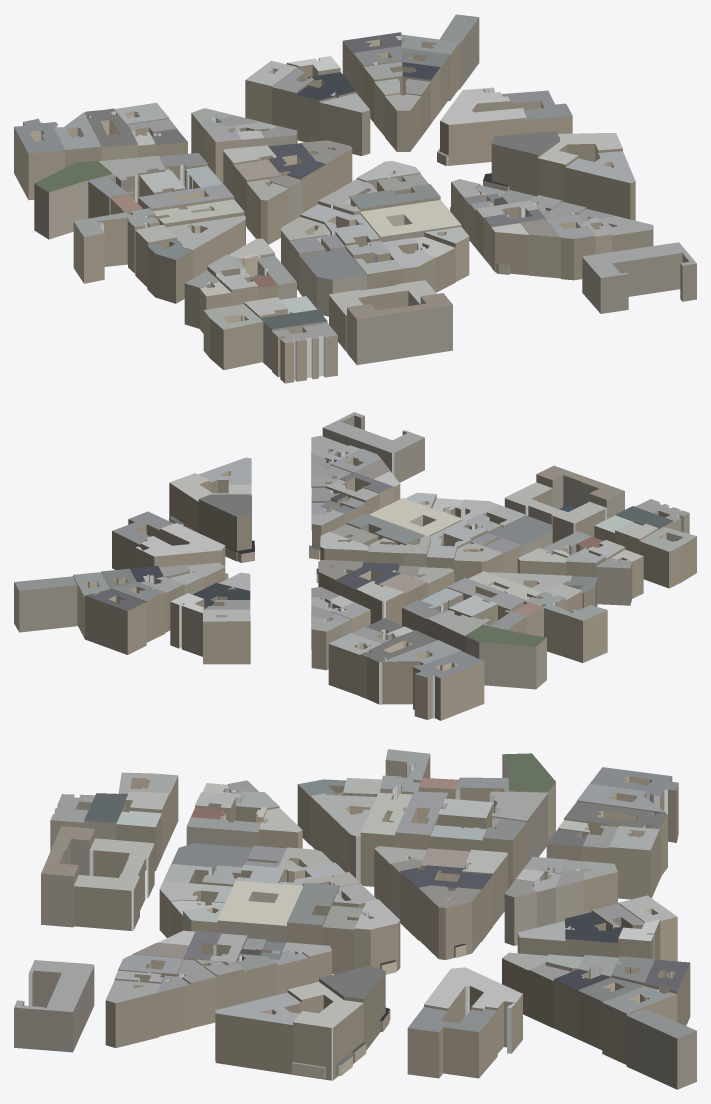
The picture shows the model from 3 angles, top to bottom: view 1: azimuth 30°, elevation 25°; view 2: azimuth 150°, elevation 25°; view 3: azimuth 270°, elevation 25°; orthographic projection. The views are drawn at different scales.
Parts seen in each view (by area): view 1: tuile; view 2: tuile; view 3: tuile.
Boxes of the visible parts, box(x1,y1,x2,y2) form: tuile: box(14, 14, 696, 383); tuile: box(14, 412, 696, 720); tuile: box(14, 749, 696, 1089).
Size of the model in its own units: 279 by 30.37 by 281.
